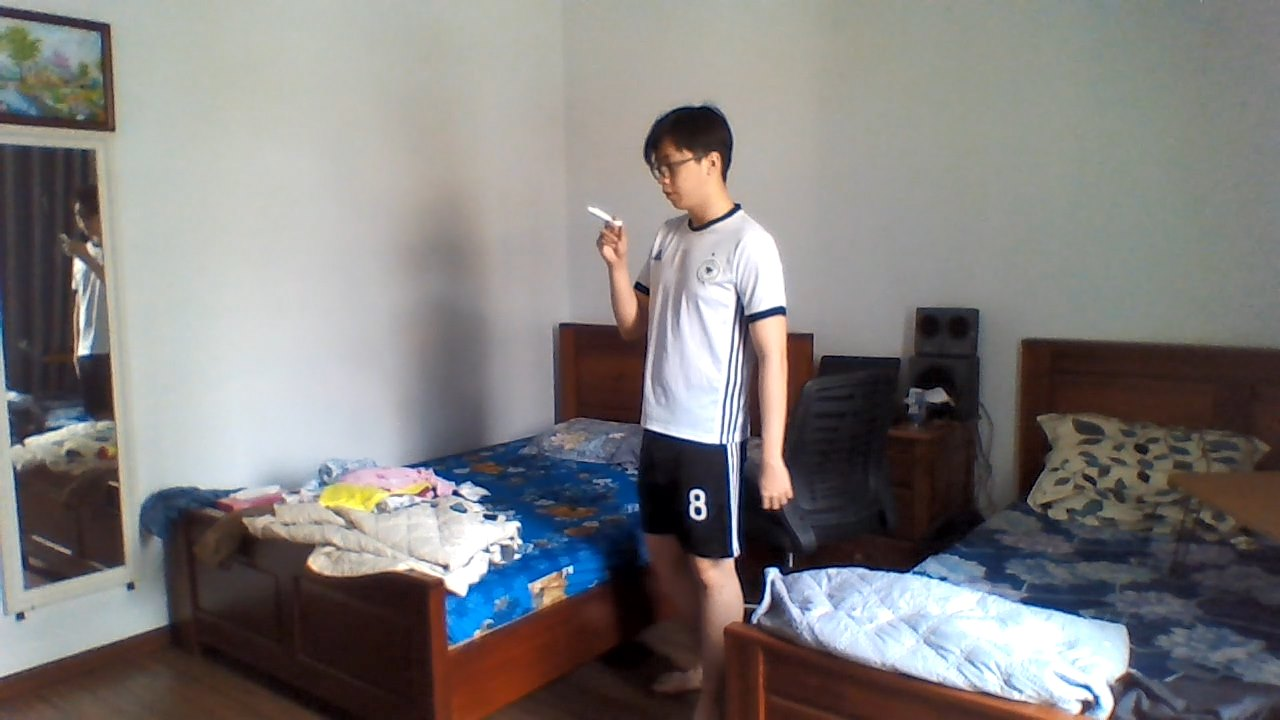cigarette: (588, 200, 614, 226)
person: (591, 90, 808, 720)
